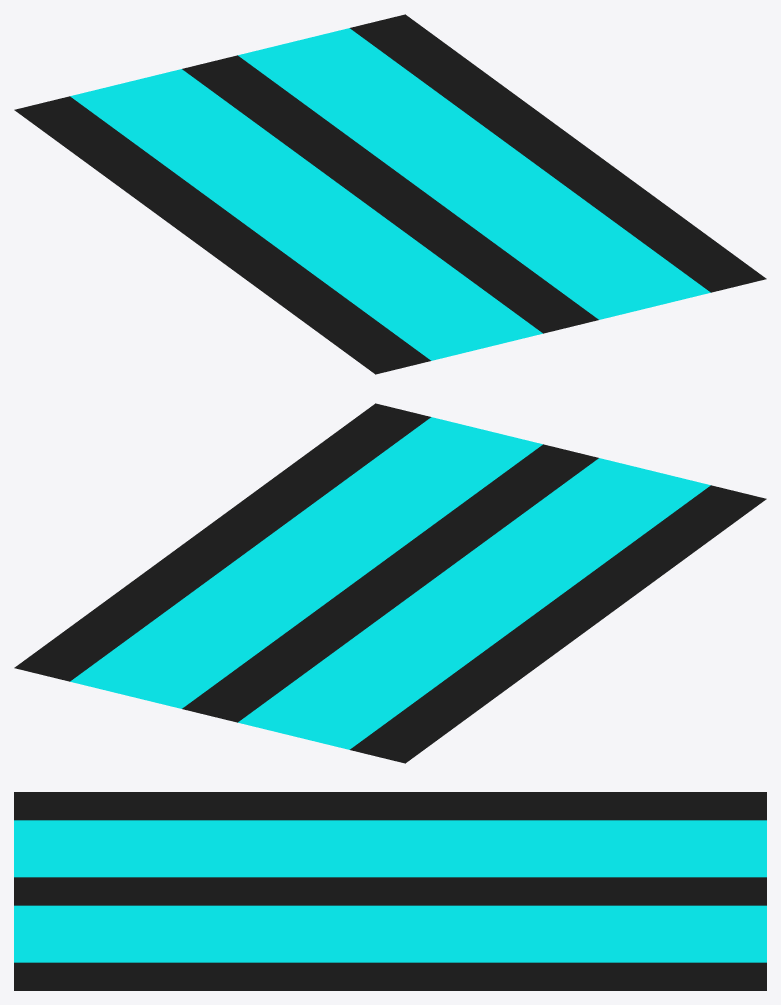
File: RaceTrack_Straight_8m 1.fbx
3 renders of one model, top to bottom at view 1: azimuth 30°, elevation 25°; view 2: azimuth 150°, elevation 25°; view 3: azimuth 270°, elevation 25°, orthographic. The views are drawn at different scales.
Parts seen in each view (by area): view 1: Straight_8m; view 2: Straight_8m; view 3: Straight_8m.
Boxes of the visible parts, x1,y1,x2,y2 form: Straight_8m: [14, 14, 766, 374]; Straight_8m: [14, 403, 766, 763]; Straight_8m: [14, 792, 766, 990].
Size of the model in its own units: 5 by 6.99e-07 by 8.
